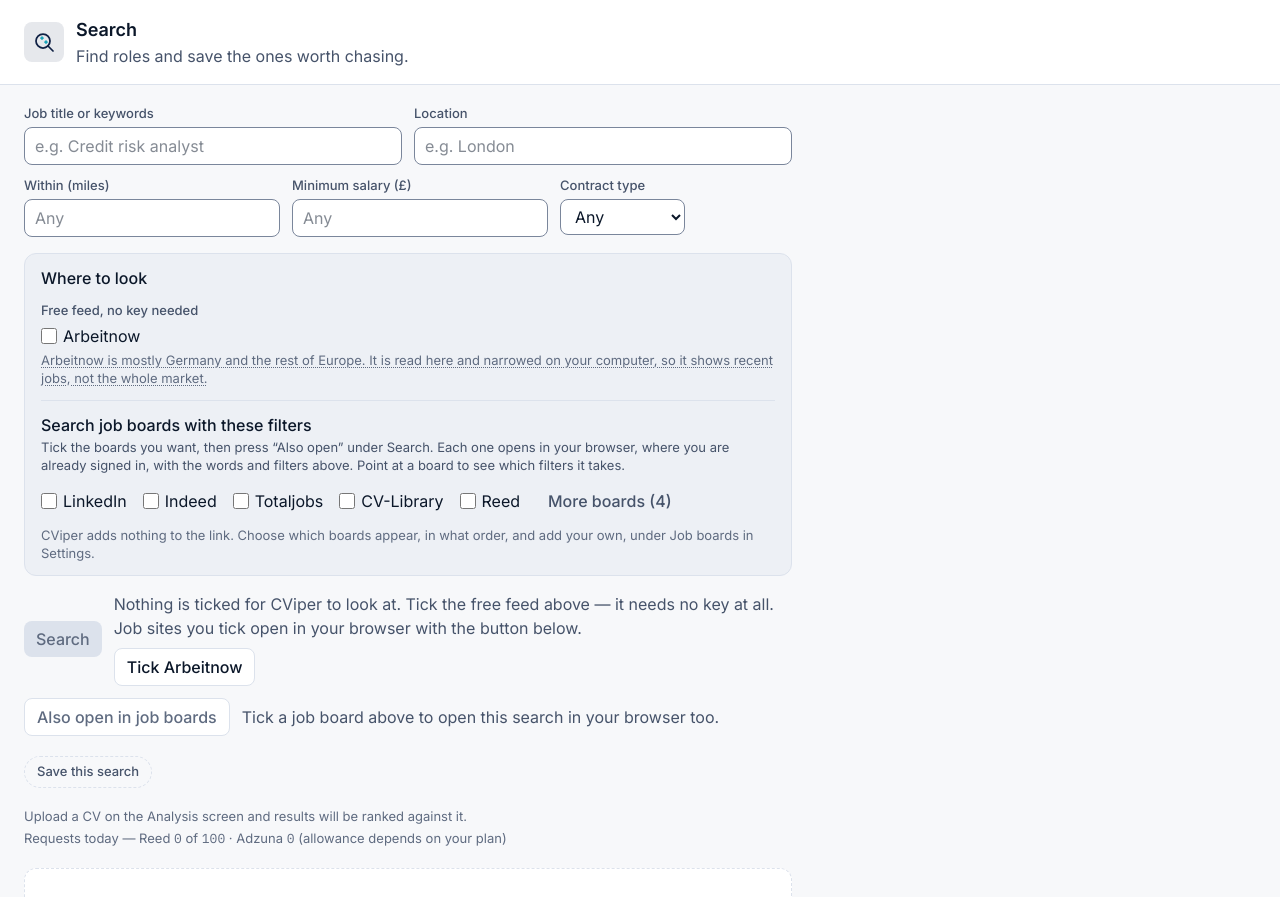
Test: the reason sits beside the disabled Search button (L-335) › boundary: location "" with the feed unticked — "Tick Arbeitnow" ticks it
This screenshot has width=1280, height=897.
Expected: the element with test id "keyless-bar" is shown, [41,400,775,563]
Click the button with test id "search-tick-feeds" at [185, 667], box [114,648,256,686]
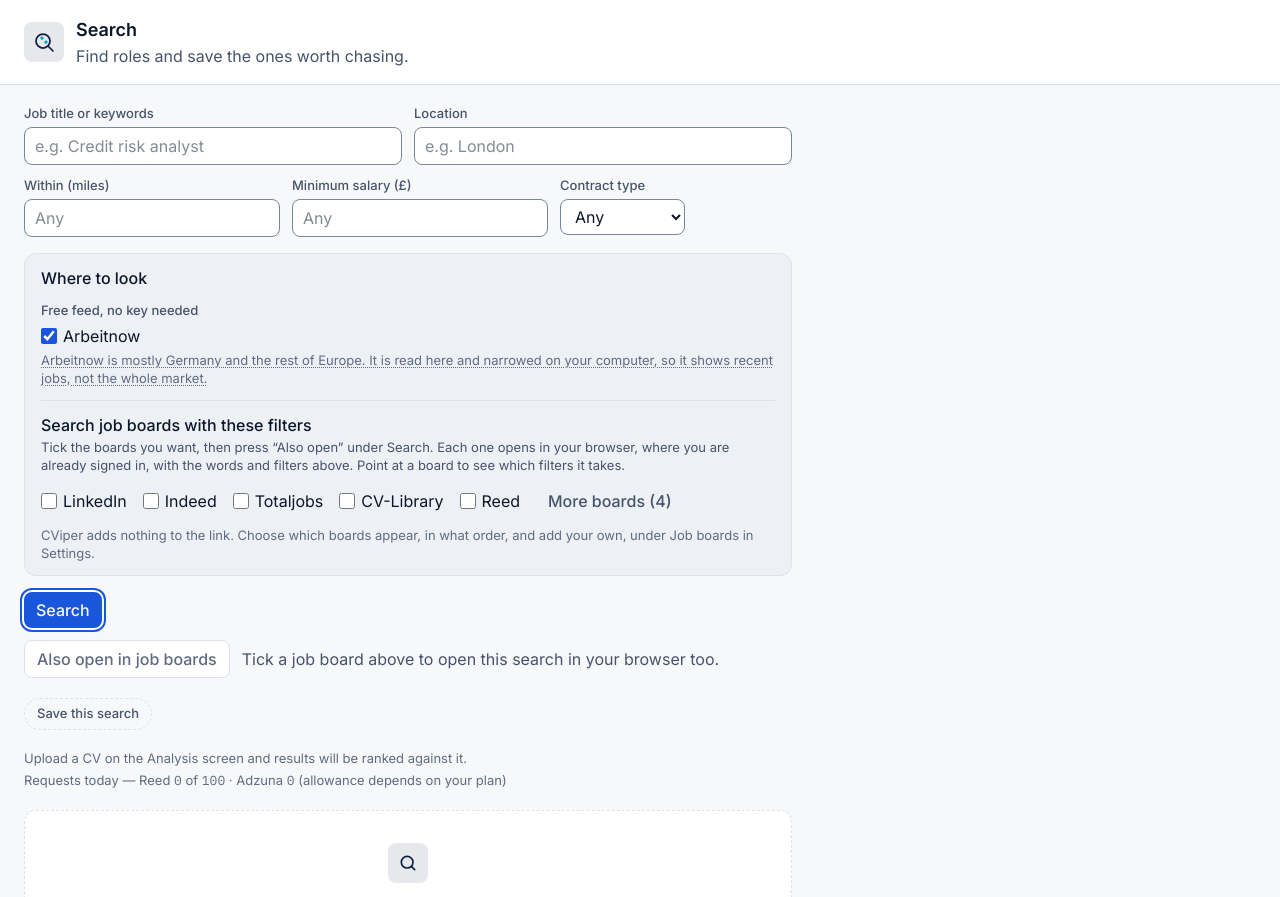
Now the checkbox with test id "keyless-source-arbeitnow" is checked, box [41,328,57,344]
Now the button with test id "search-submit" is enabled, box [24,592,102,628]
